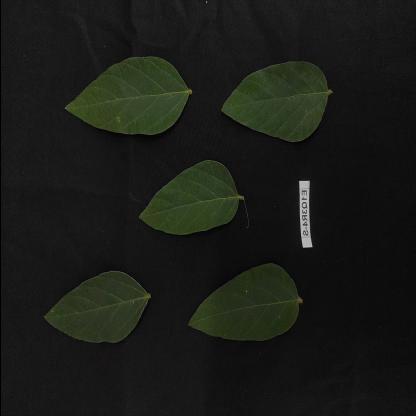label: (288, 177, 328, 251)
leaflets: (210, 51, 332, 152), (129, 154, 252, 249), (63, 52, 198, 136), (186, 264, 312, 352), (32, 262, 154, 350)
